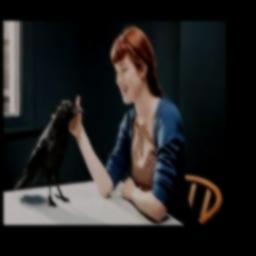Crow: (14, 102, 84, 207)
